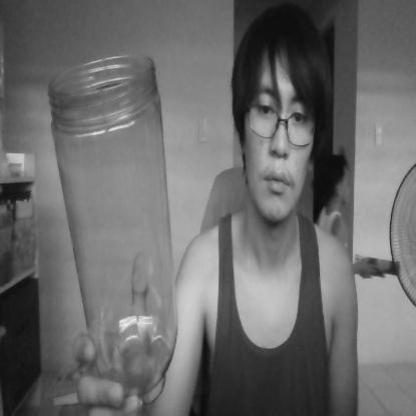Plastic Bottle: (45, 38, 185, 403)
